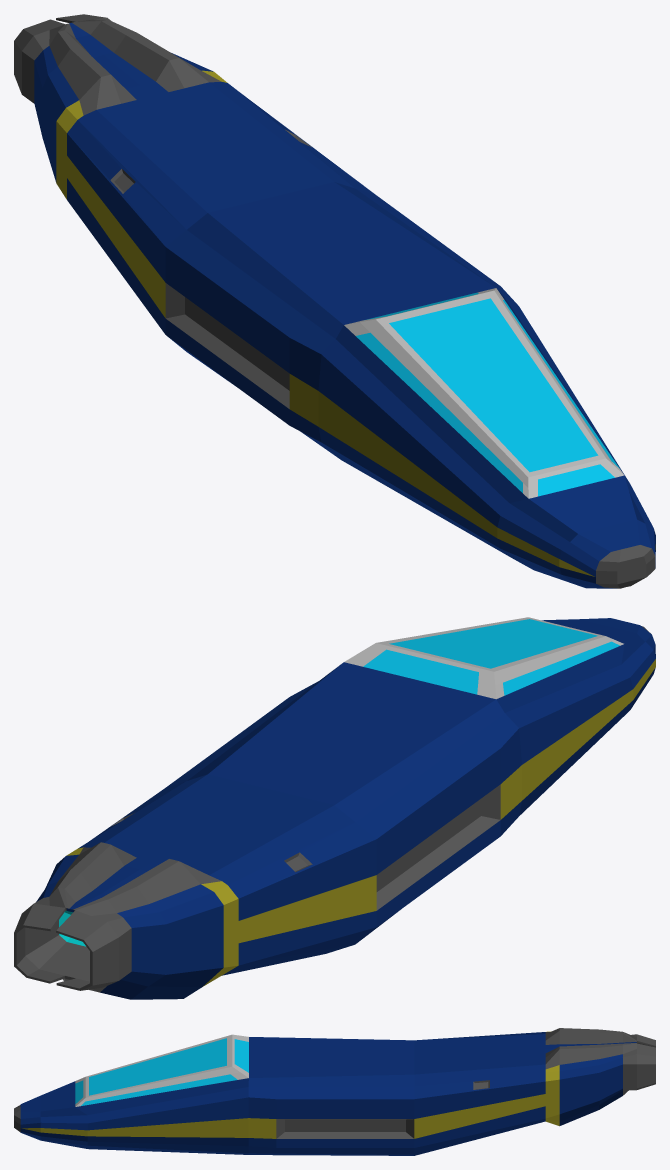
Rendered from ShipBody.fbx.
3 renders of one model, top to bottom at view 1: azimuth 30°, elevation 25°; view 2: azimuth 150°, elevation 25°; view 3: azimuth 270°, elevation 25°, orthographic. The views are drawn at different scales.
Parts seen in each view (by area): view 1: ShipBody; view 2: ShipBody; view 3: ShipBody.
Boxes of the visible parts, x1,y1,x2,y2 form: ShipBody: (14,14,655,588); ShipBody: (14,617,655,999); ShipBody: (14,1028,655,1155).
Size of the model in its own units: 168 by 140 by 798.
